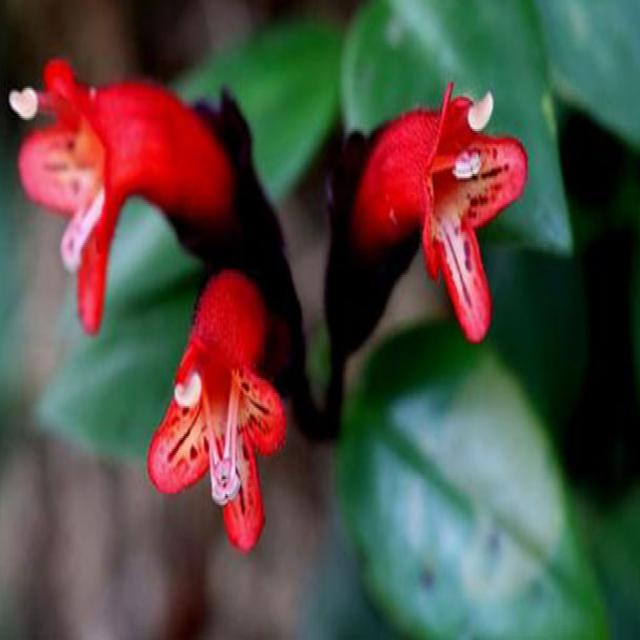Lipstick-Plant: (8, 45, 584, 584)
